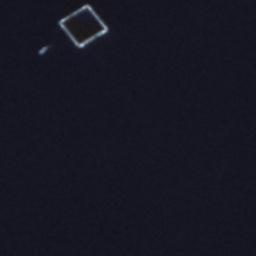square_solid: (54, 1, 114, 53)
